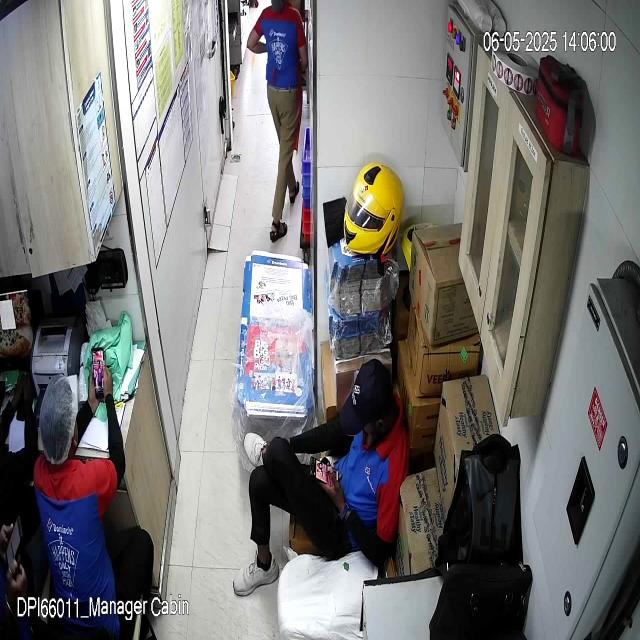helmet: (343, 161, 403, 256)
